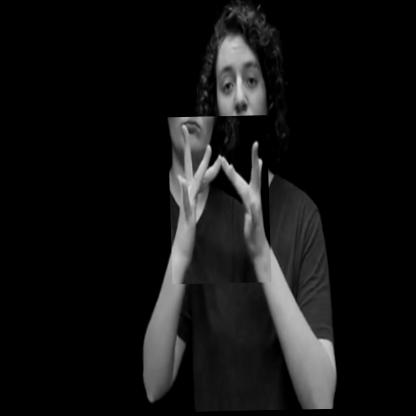Internet: (167, 116, 270, 285)
